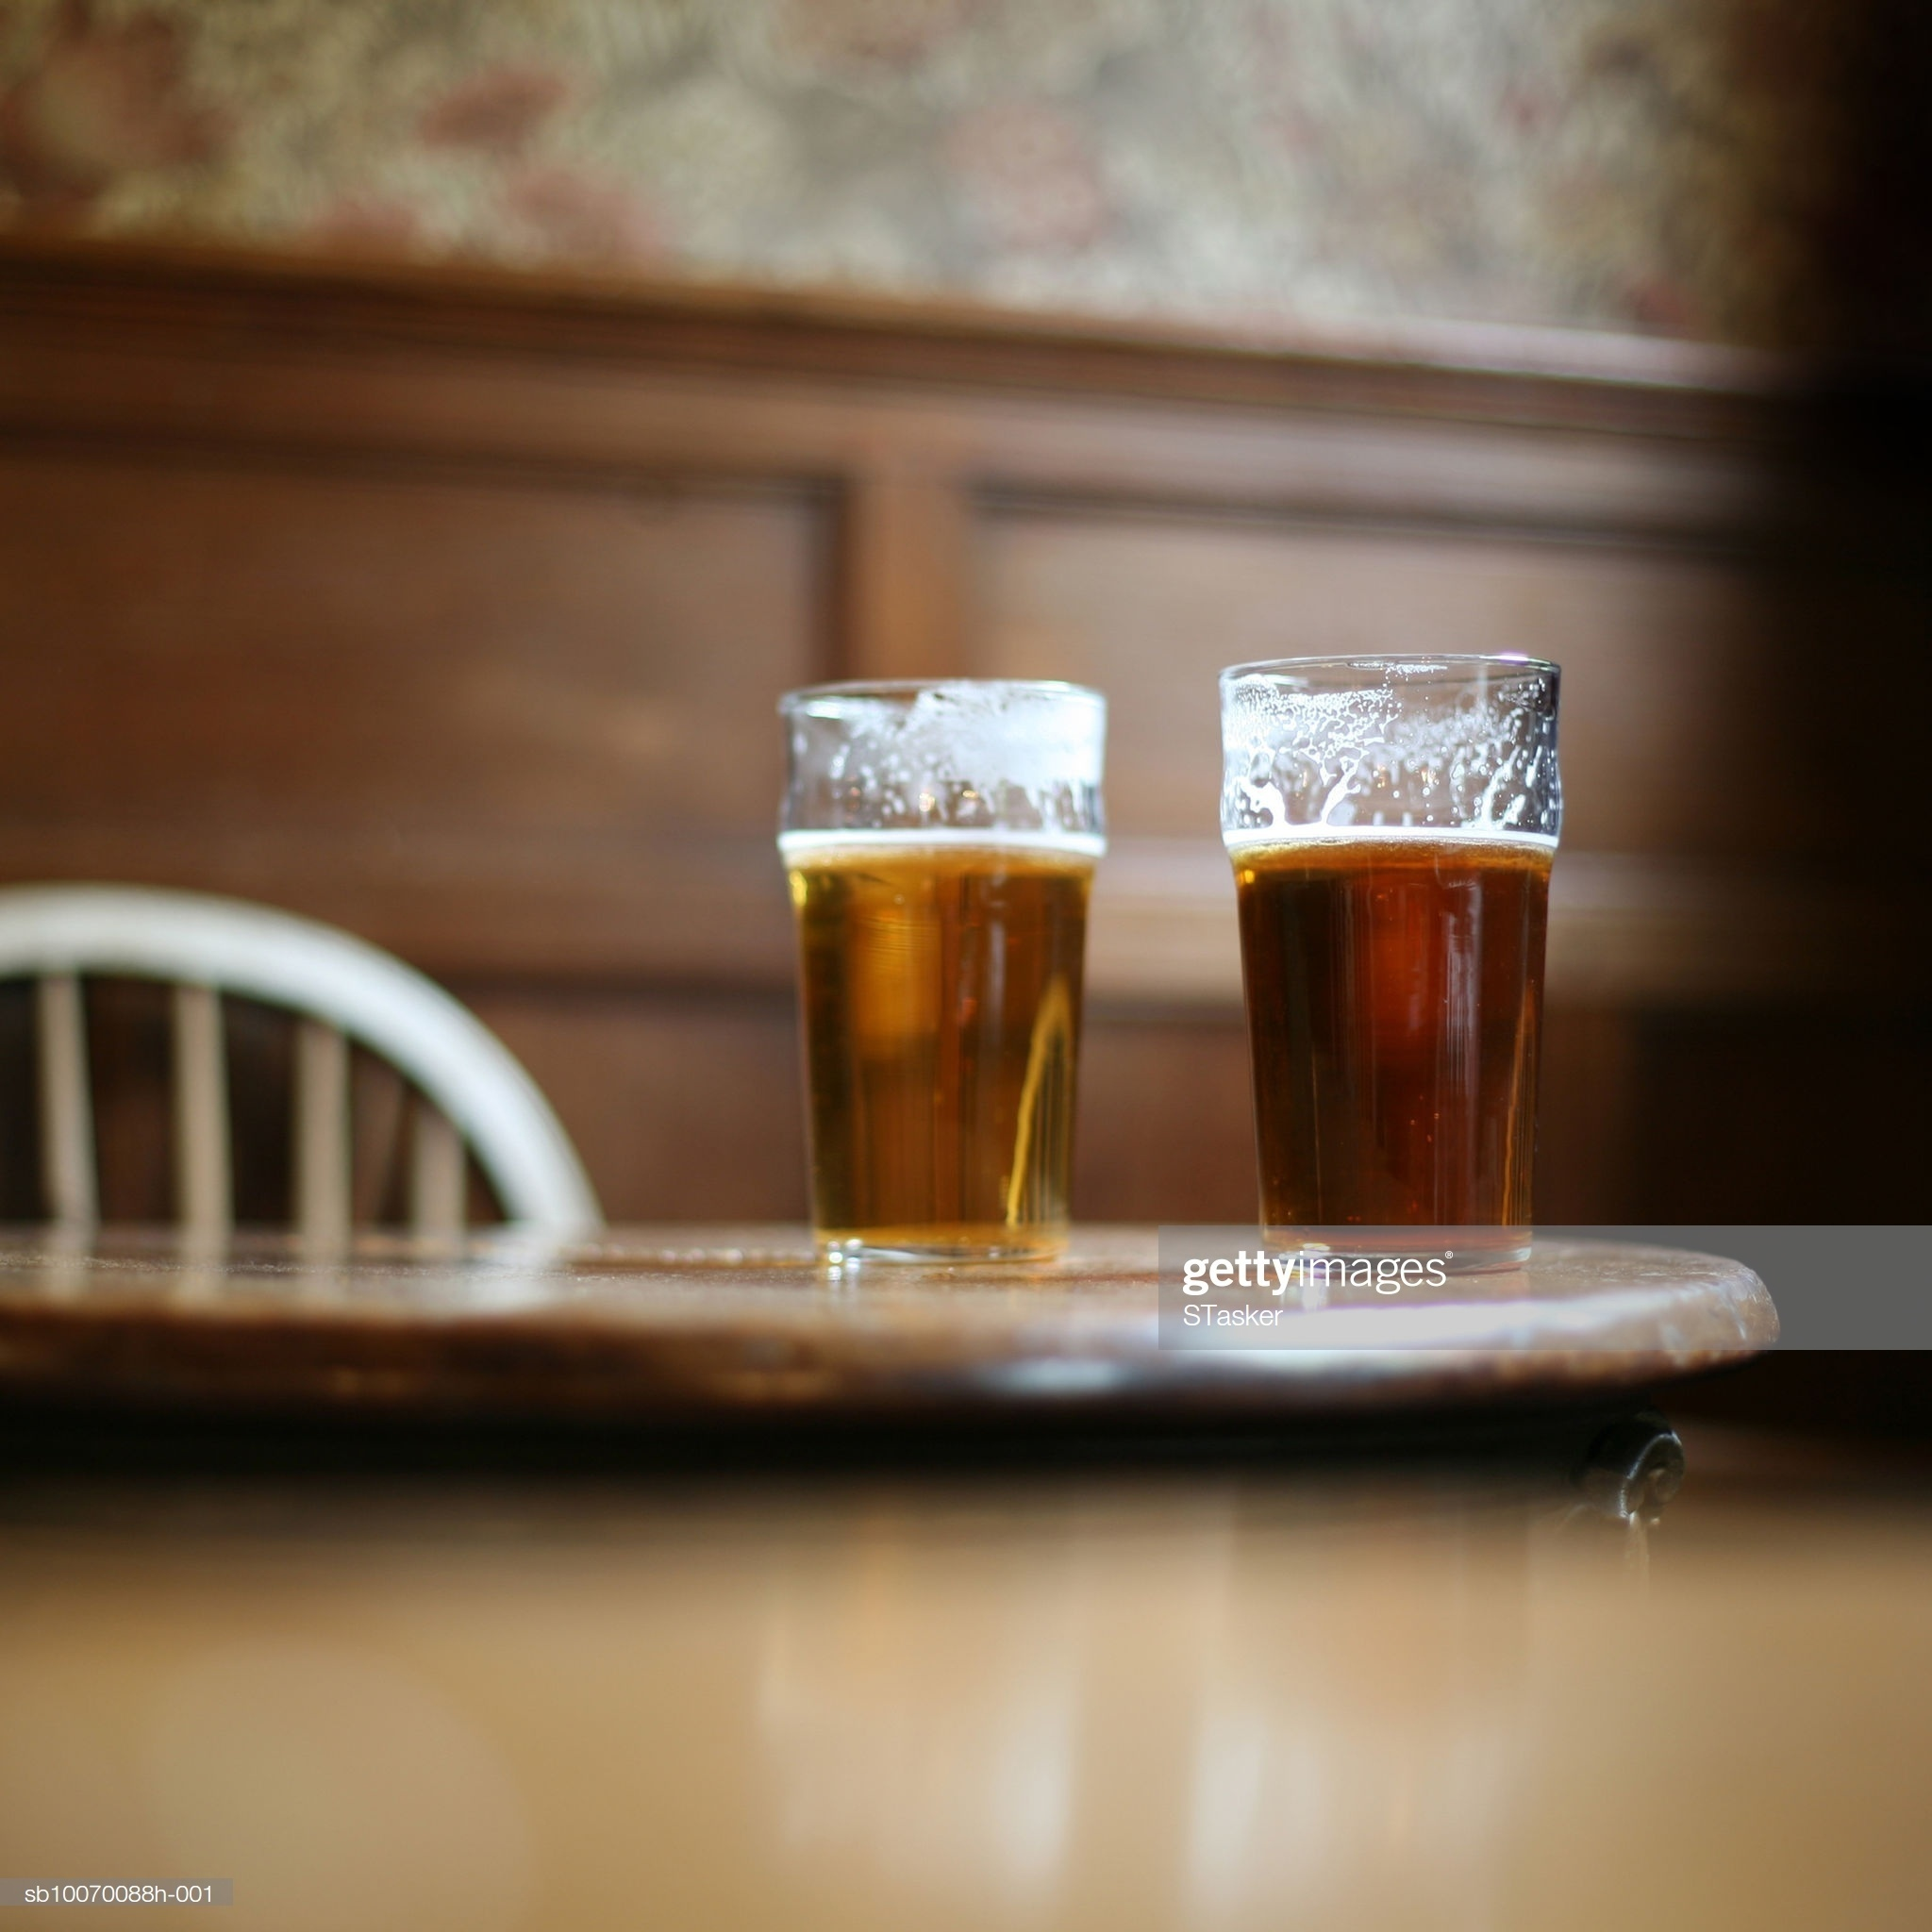whiskey: (1182, 644, 1566, 1263), (787, 679, 1097, 1233)
